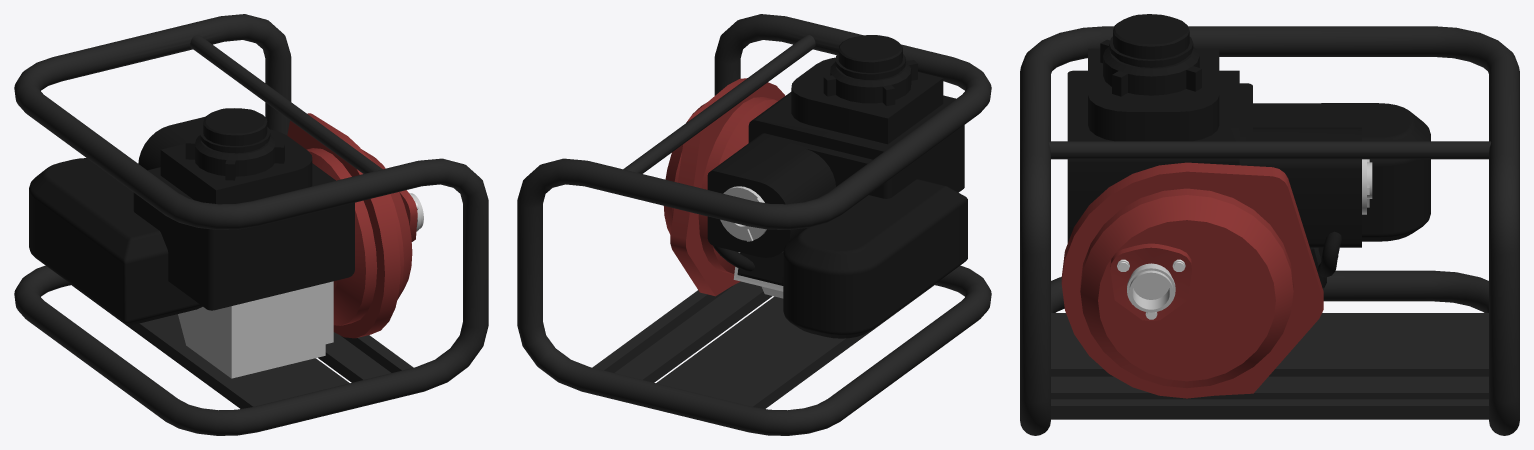
File: Engine.fbx
3 views of the same model, side by side, from view 1: azimuth 30°, elevation 25°; view 2: azimuth 150°, elevation 25°; view 3: azimuth 270°, elevation 25° (orthographic). The views are drawn at different scales.
Visible parts, largest first — view 1: Cube.042, Cube.078, Cube.080, Cylinder.028, Cube.079, Cube.057, Cylinder.032, Cube.076, Cube.077, Cylinder.029; view 2: Cube.042, Cube.078, Cube.080, Cube.057, Cylinder.028, Cylinder.032, Cube.076, Cube.077, Cube.079, Cylinder.034, BezierCurve.012; view 3: Cube.042, Cylinder.028, Cube.078, Cube.057, Cube.080, Cube.077, Cube.076, Cylinder.032, Cylinder.029, BezierCurve.012, Cylinder.034.
Boxes of the visible parts, x1,y1,x2,y2 form: Cube.042: (14,14,488,435); Cube.078: (133,117,354,310); Cube.080: (29,158,202,325); Cylinder.028: (287,113,423,338); Cube.079: (178,281,333,378); Cube.057: (69,283,349,408); Cylinder.032: (185,108,284,180); Cube.076: (318,332,390,382); Cube.077: (341,335,413,372); Cylinder.029: (399,190,417,241); Cube.042: (517,14,991,435); Cube.078: (707,57,964,257); Cube.080: (783,179,967,338); Cube.057: (656,283,936,408); Cylinder.028: (664,78,785,296); Cylinder.032: (823,35,917,106); Cube.076: (615,281,772,382); Cube.077: (592,285,733,372); Cube.079: (733,251,783,298); Cylinder.034: (720,186,766,241); BezierCurve.012: (713,245,754,271); Cube.042: (1020,26,1519,435); Cylinder.028: (1061,162,1323,398); Cube.078: (1067,48,1361,247); Cube.057: (1051,313,1488,376); Cube.080: (1253,103,1430,241); Cube.077: (1051,399,1488,419); Cube.076: (1051,376,1488,399); Cylinder.032: (1100,14,1201,96); Cylinder.029: (1110,243,1191,320); BezierCurve.012: (1317,231,1341,277); Cylinder.034: (1362,159,1372,214).
Bounding box in the file's own units: 361 × 301 × 428.
